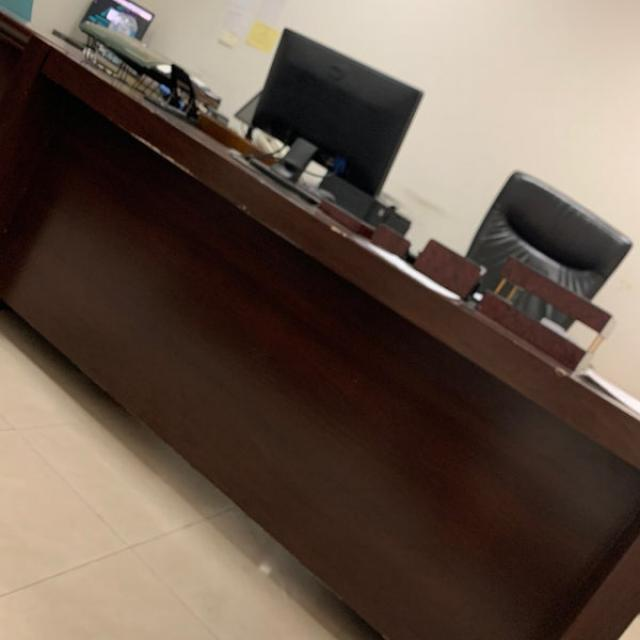chair: (462, 156, 640, 378)
computer: (250, 32, 402, 210)
desk: (23, 103, 608, 605)
